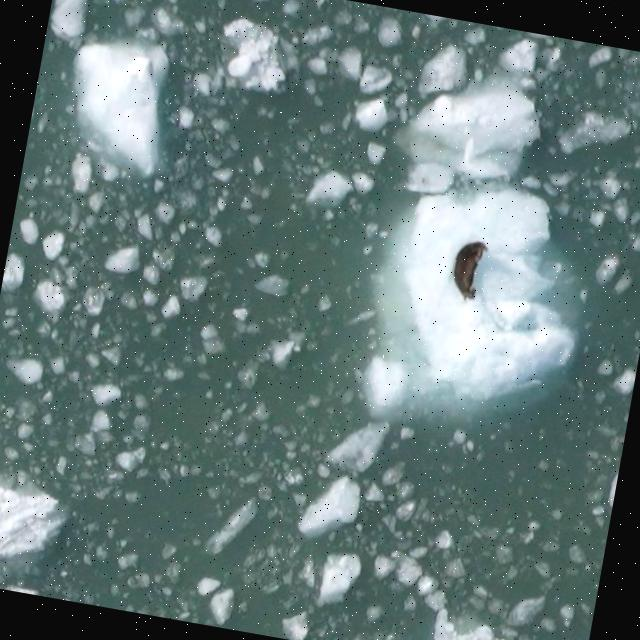seal: (444, 237, 491, 304)
